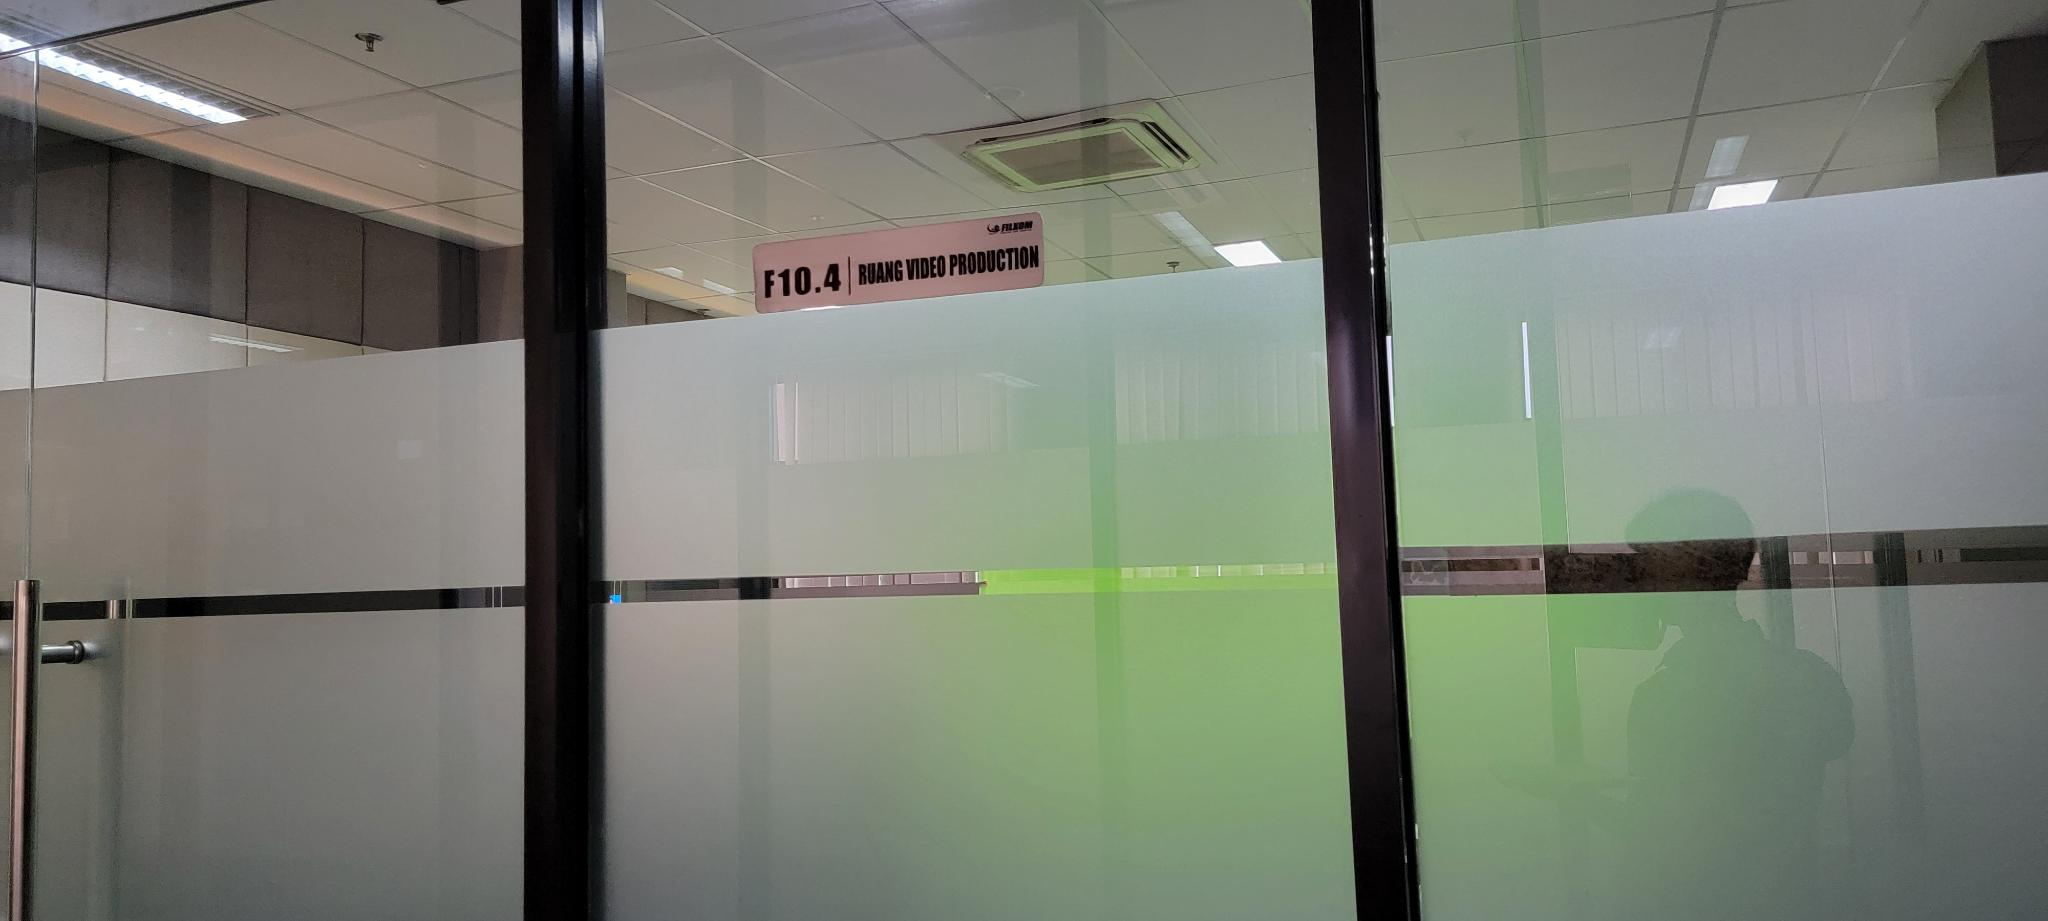plate: (754, 213, 1046, 312)
